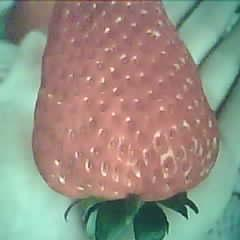straw-ripe: (35, 2, 219, 195)
